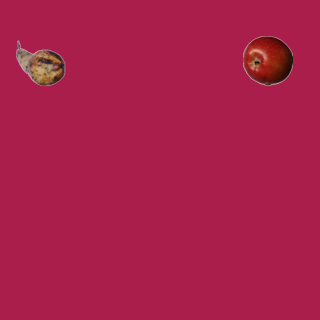Apple Braeburn: (242, 35, 292, 85)
Pear Abate: (15, 38, 65, 88)
